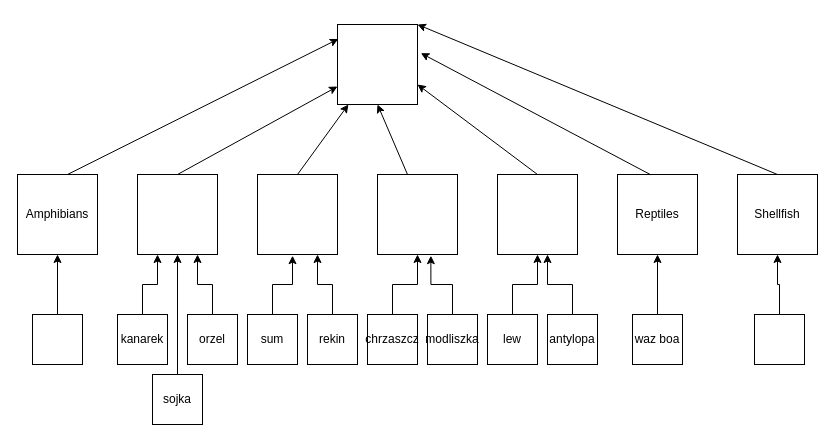
The diagram is 835 pixels wide and 442 high, and some of its shapes have lost their labels. The centre of each missing label's shape, as x and y in pixels:
"Animals" belongs at pixel 377 64.
"Birds" belongs at pixel 177 214.
"Fish" belongs at pixel 297 214.
"Insects" belongs at pixel 417 214.
"Mammals" belongs at pixel 537 214.
"slimak" belongs at pixel 779 339.
"zaba" belongs at pixel 57 339.
